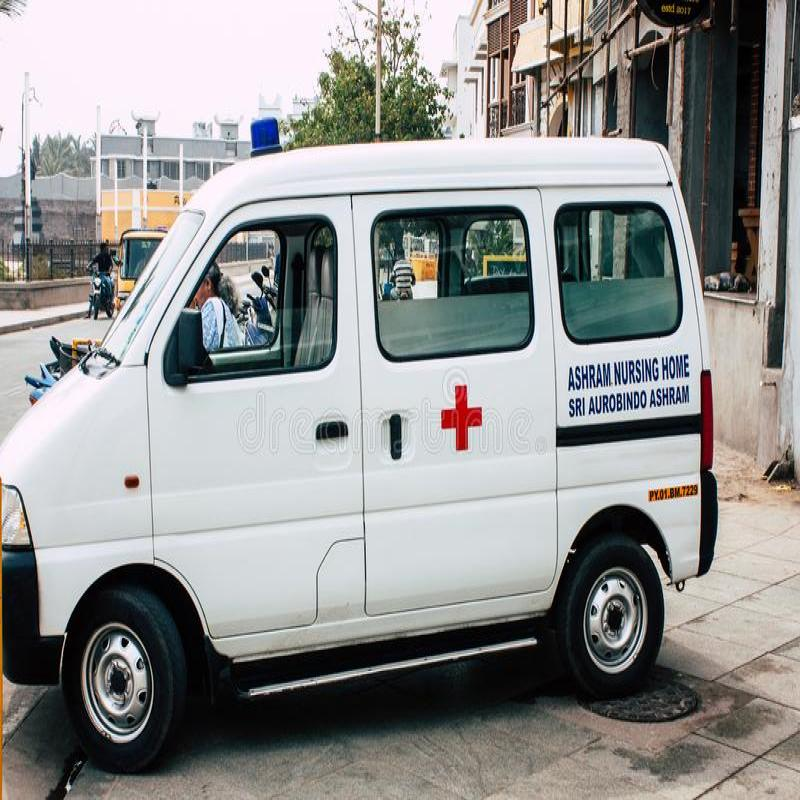ambulance: (0, 99, 707, 716)
